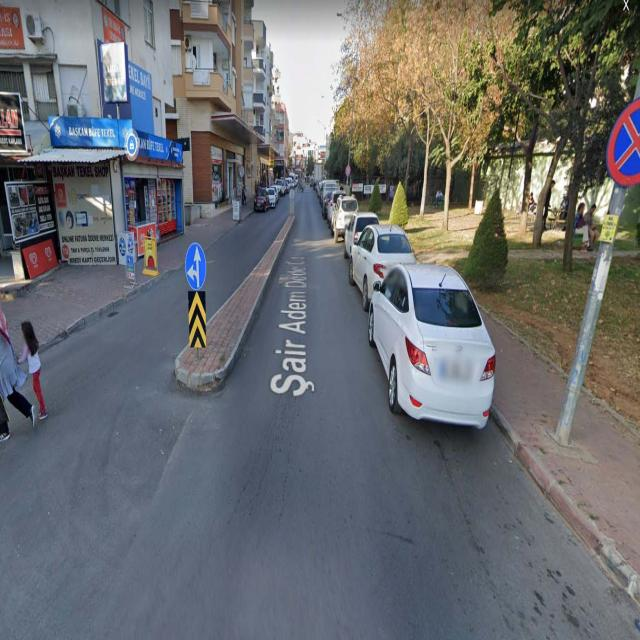ilerisol: (186, 242, 207, 293)
